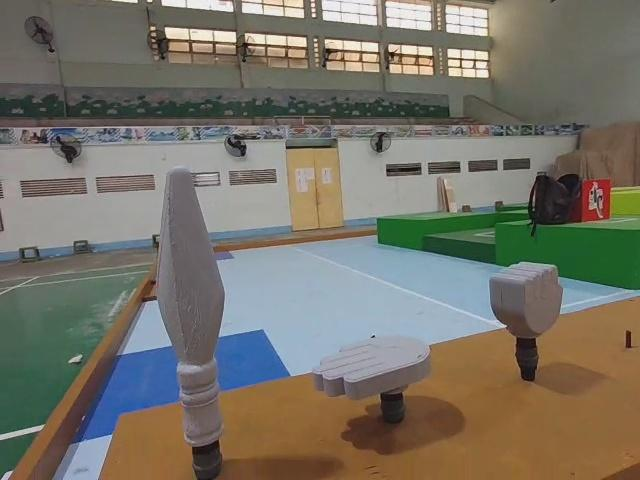Fist: (491, 261, 562, 384)
Hand: (312, 329, 432, 428)
Sph: (151, 167, 224, 480)
